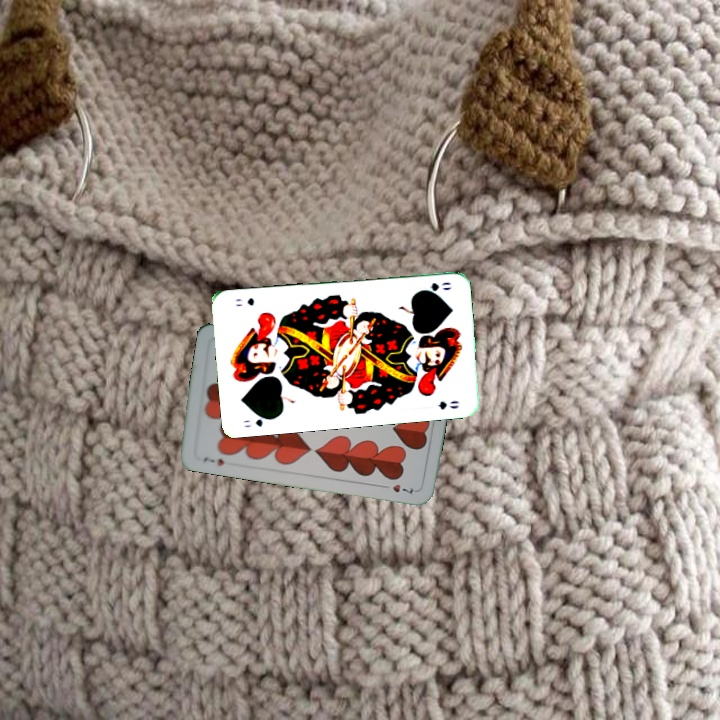GO: (239, 411, 276, 430), (414, 278, 454, 295)
H7: (199, 453, 227, 468)
